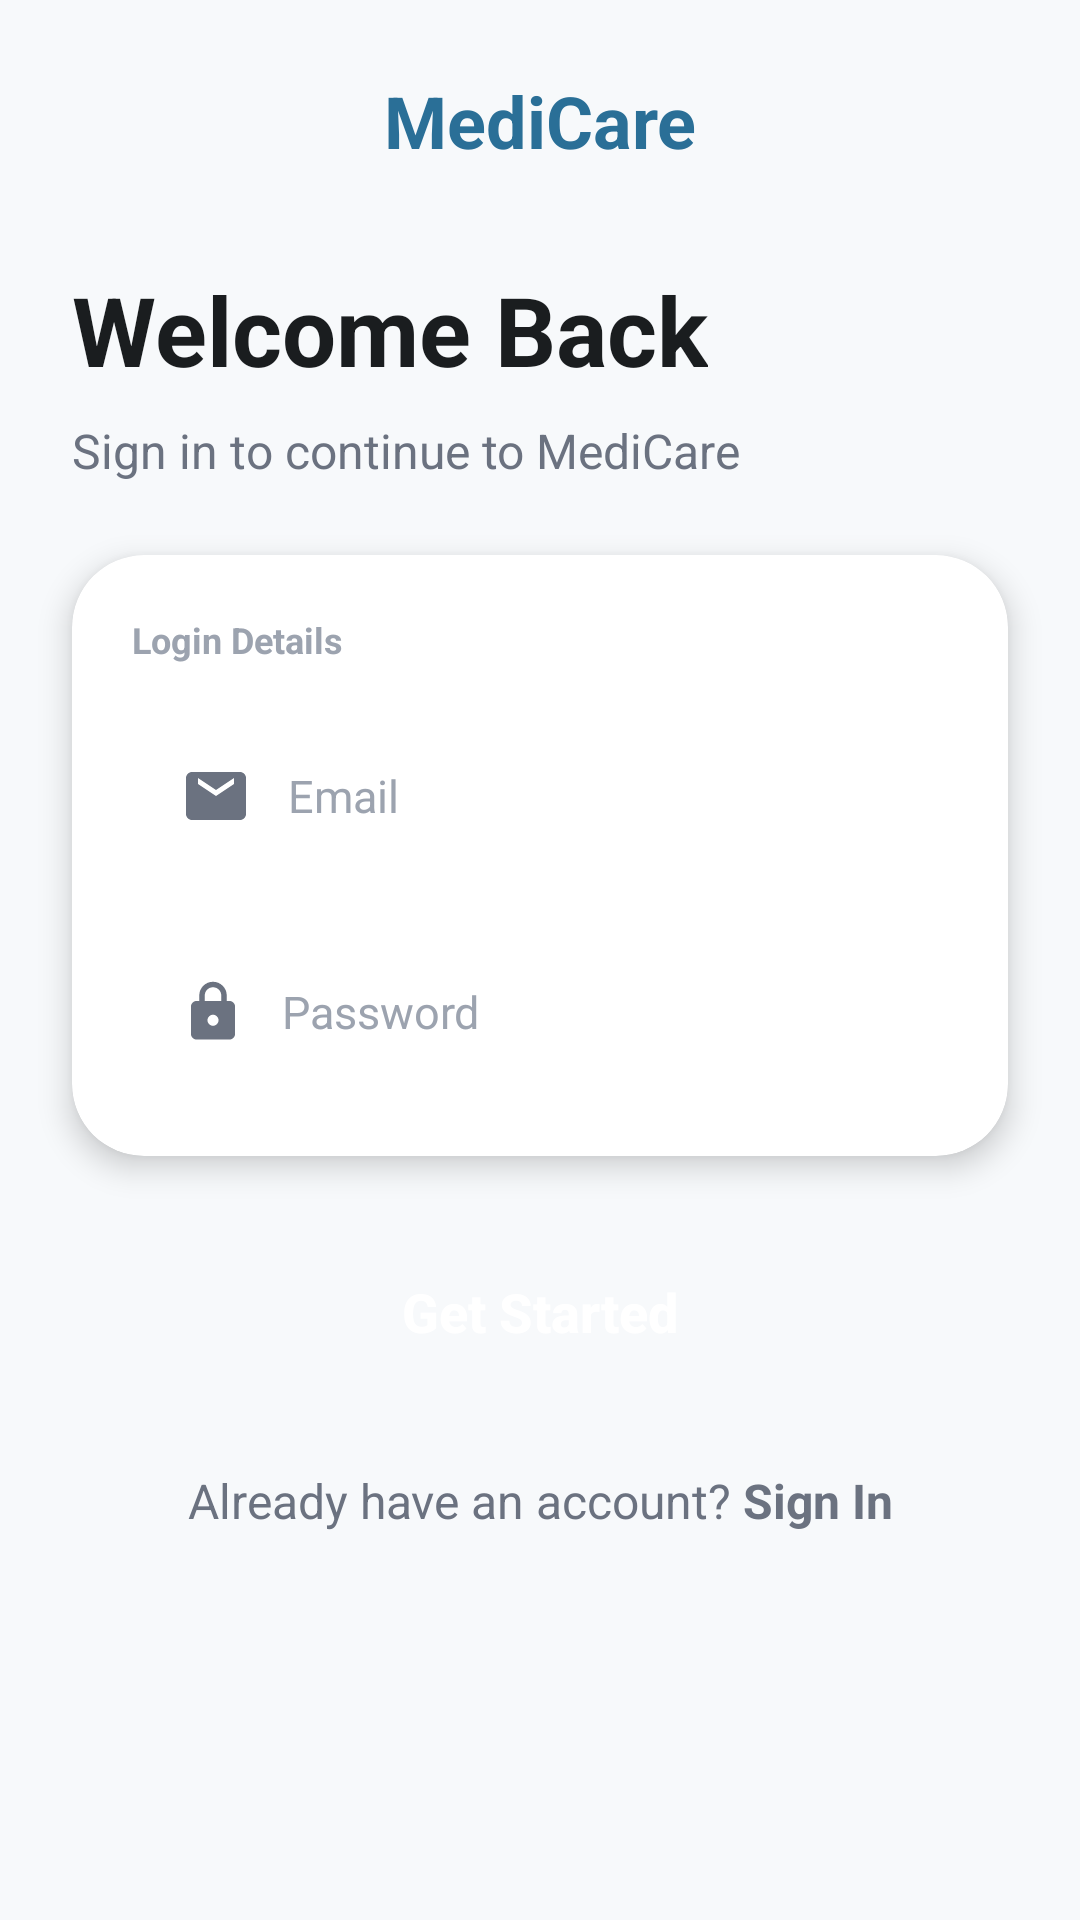

Screen size 1080×1920. Icon name, then its center in pixels as [x,y]:
lock: [213,1010]
